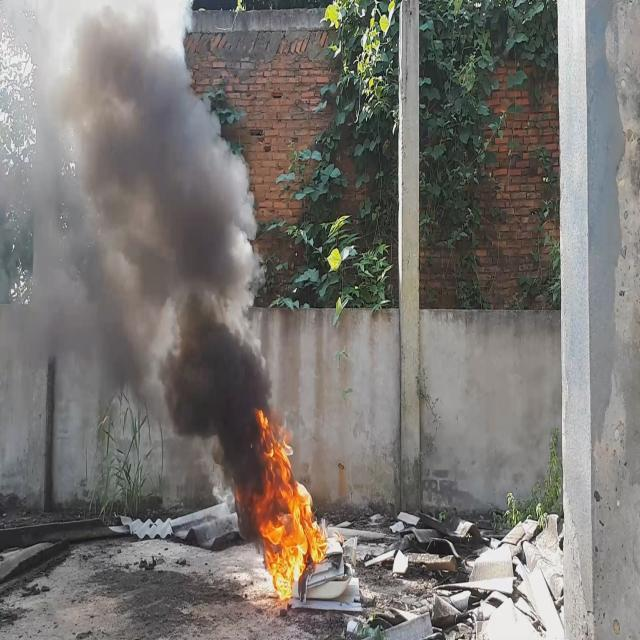Fire: (238, 397, 328, 607)
Smoke: (0, 0, 275, 510)
